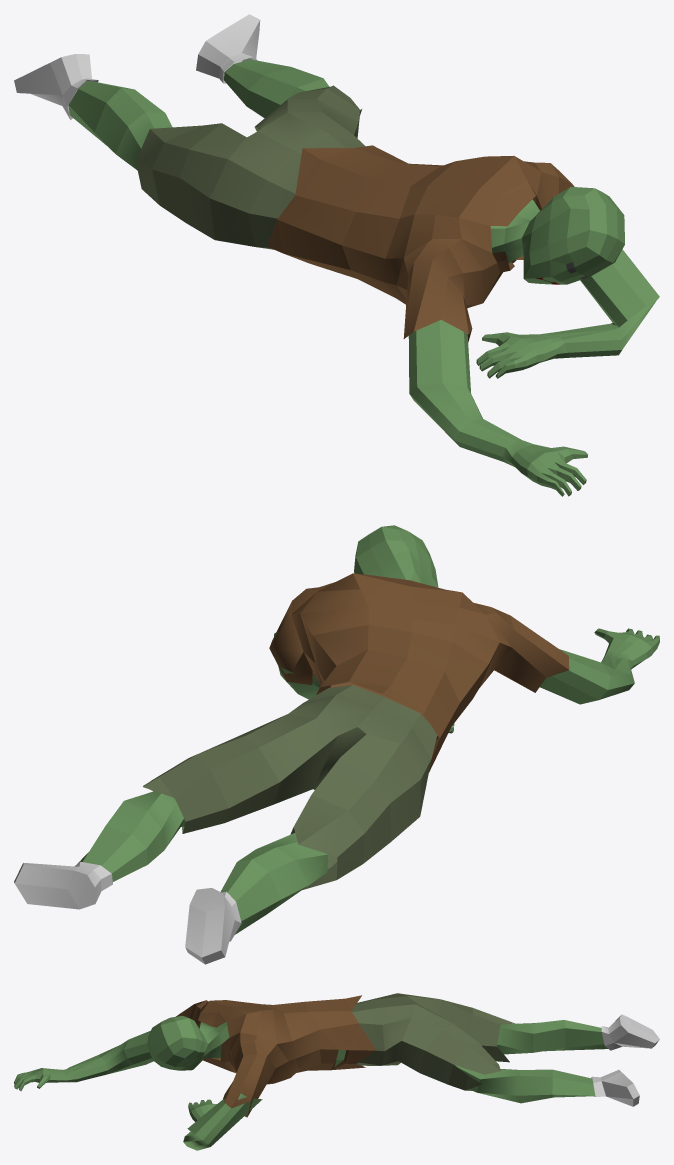
File: ZombieCrawl(84).obj
The picture shows the model from 3 angles, top to bottom: view 1: azimuth 30°, elevation 25°; view 2: azimuth 150°, elevation 25°; view 3: azimuth 270°, elevation 25°; orthographic projection. The views are drawn at different scales.
Parts seen in each view (by area): view 1: Object001; view 2: Object001; view 3: Object001.
Boxes of the visible parts, box(x1,y1,x2,y2) form: Object001: box(14, 14, 659, 496); Object001: box(14, 525, 659, 964); Object001: box(14, 993, 659, 1150).
Size of the model in its own units: 25.68 by 15.37 by 75.71.
